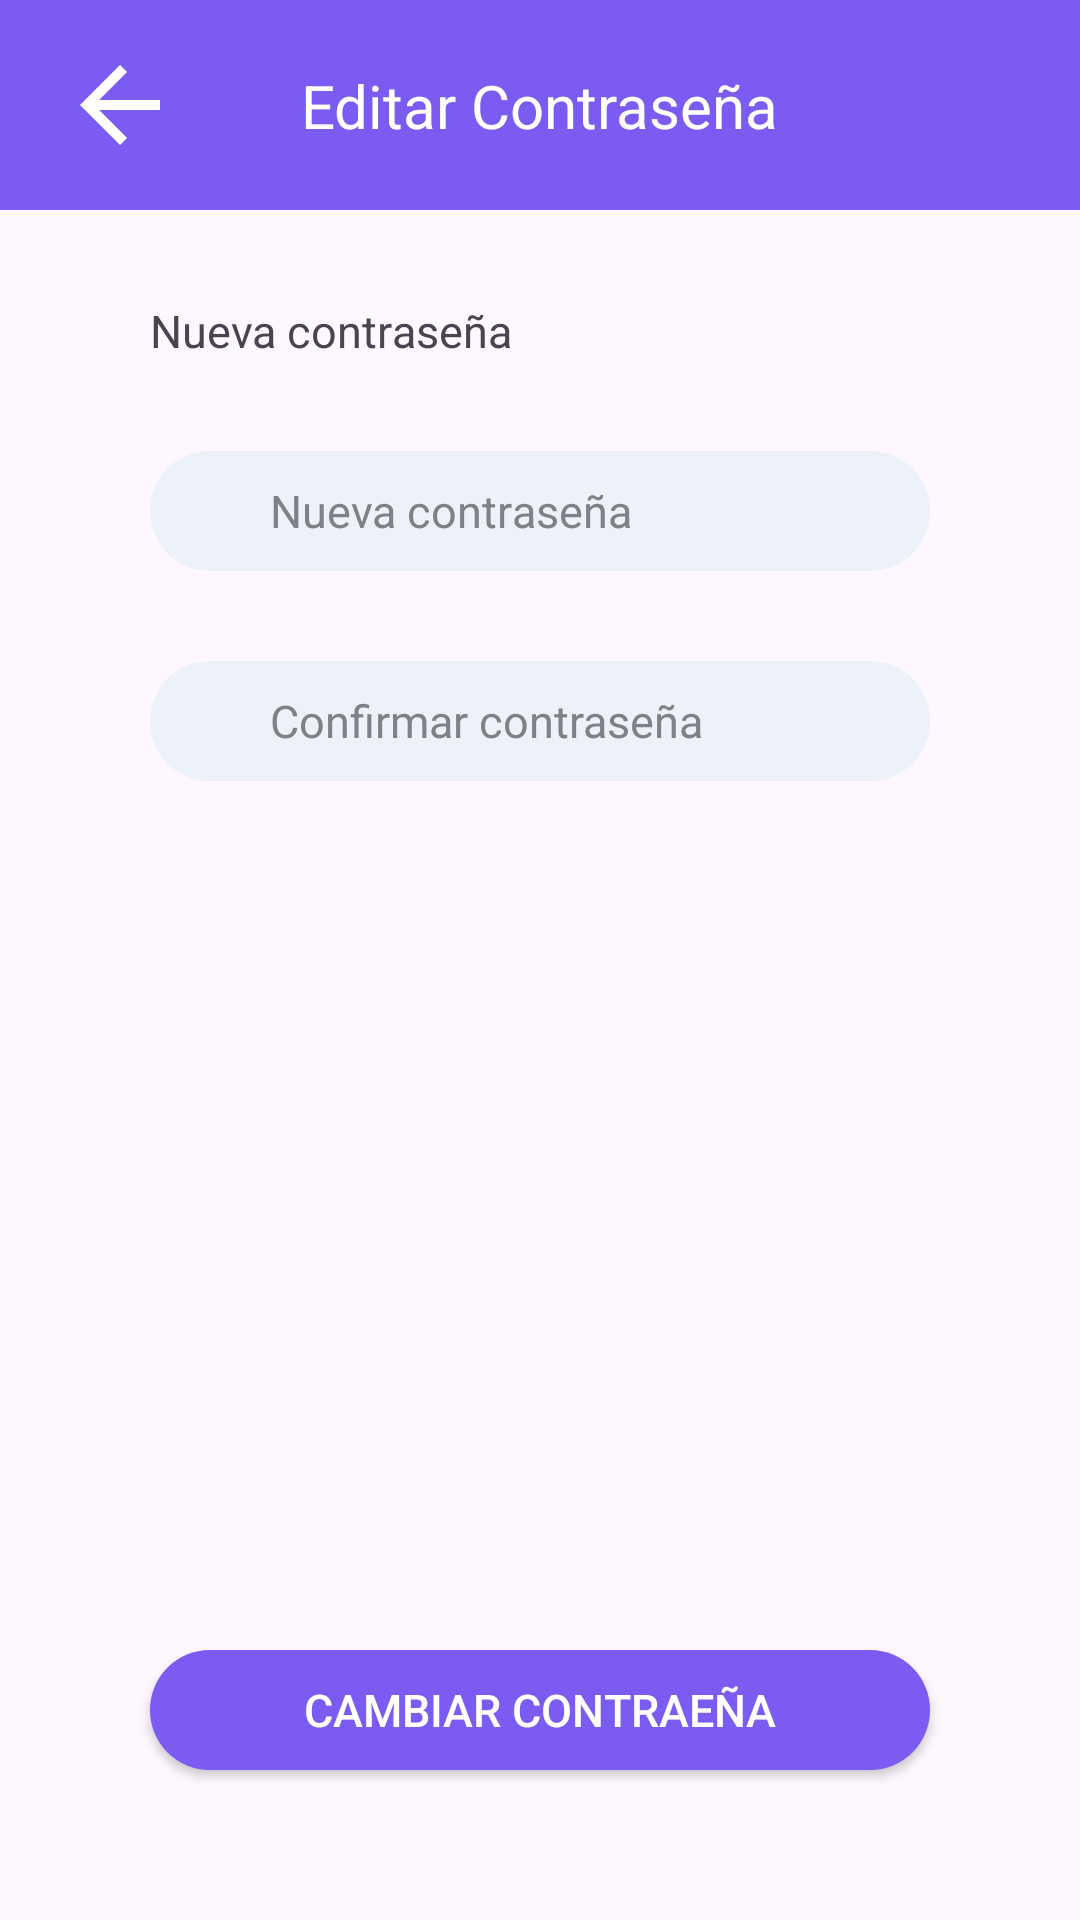

Named icons in this screenshot (1080w x 1920h) and their centers, [x,y]:
back arrow: [120,105]
